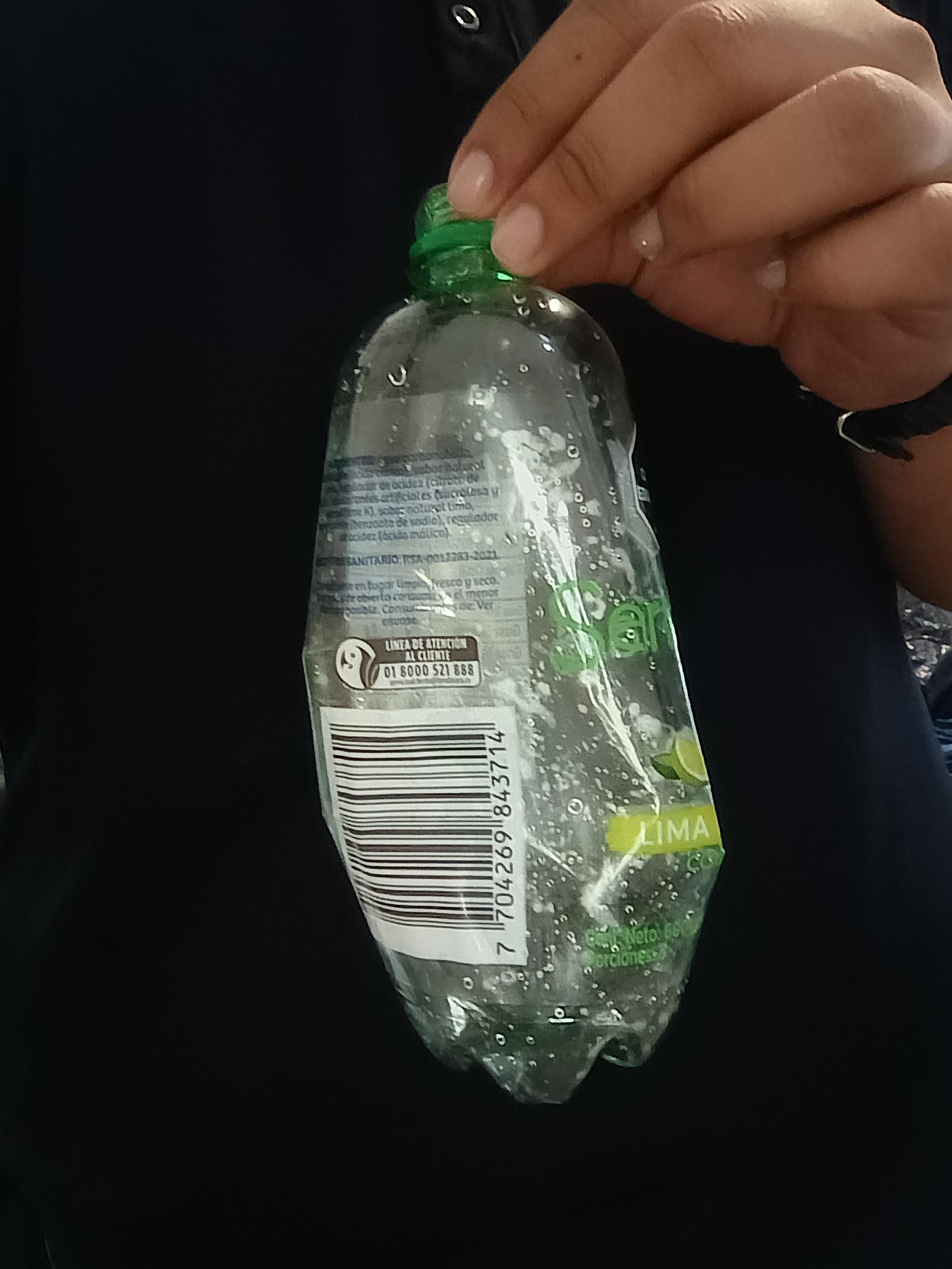Plastico: (299, 182, 726, 1103)
